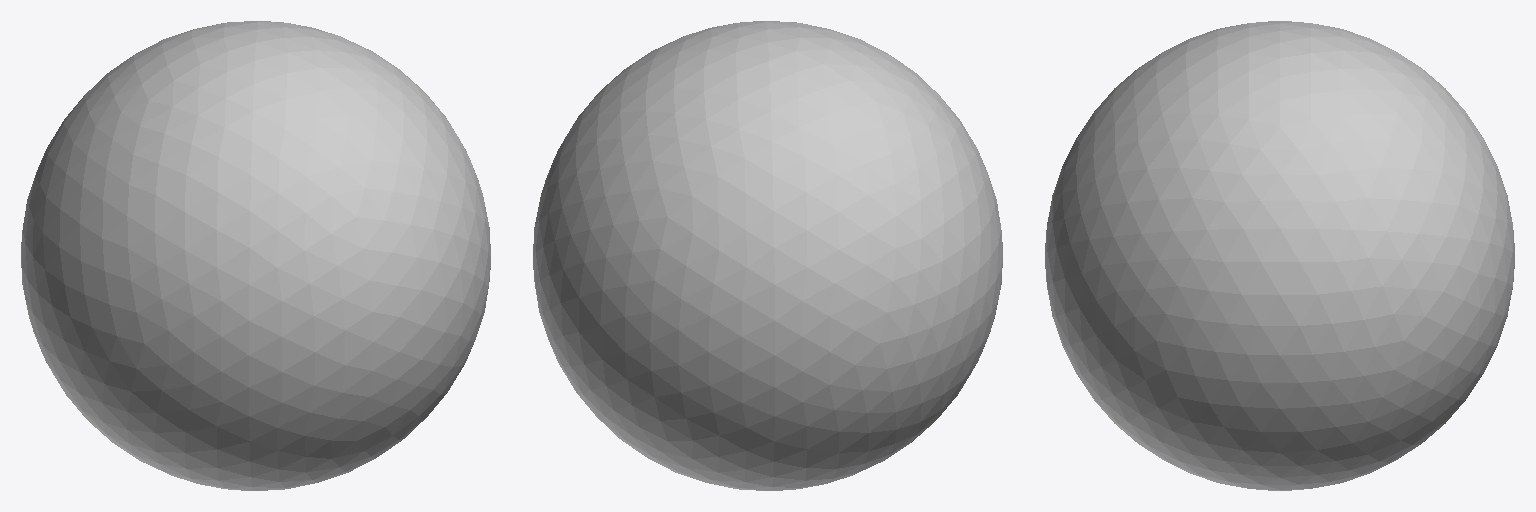
Rendered from invertedSphere.obj.
3 views of the same model, side by side, from view 1: azimuth 30°, elevation 25°; view 2: azimuth 150°, elevation 25°; view 3: azimuth 270°, elevation 25° (orthographic).
Visible parts, largest first — view 1: invertedSphere; view 2: invertedSphere; view 3: invertedSphere.
Part boxes in pixels (bbox=[...]): invertedSphere: bbox=[21, 21, 490, 490]; invertedSphere: bbox=[533, 21, 1002, 490]; invertedSphere: bbox=[1045, 21, 1514, 490].
Bounding box in the file's own units: 20 × 20 × 20.